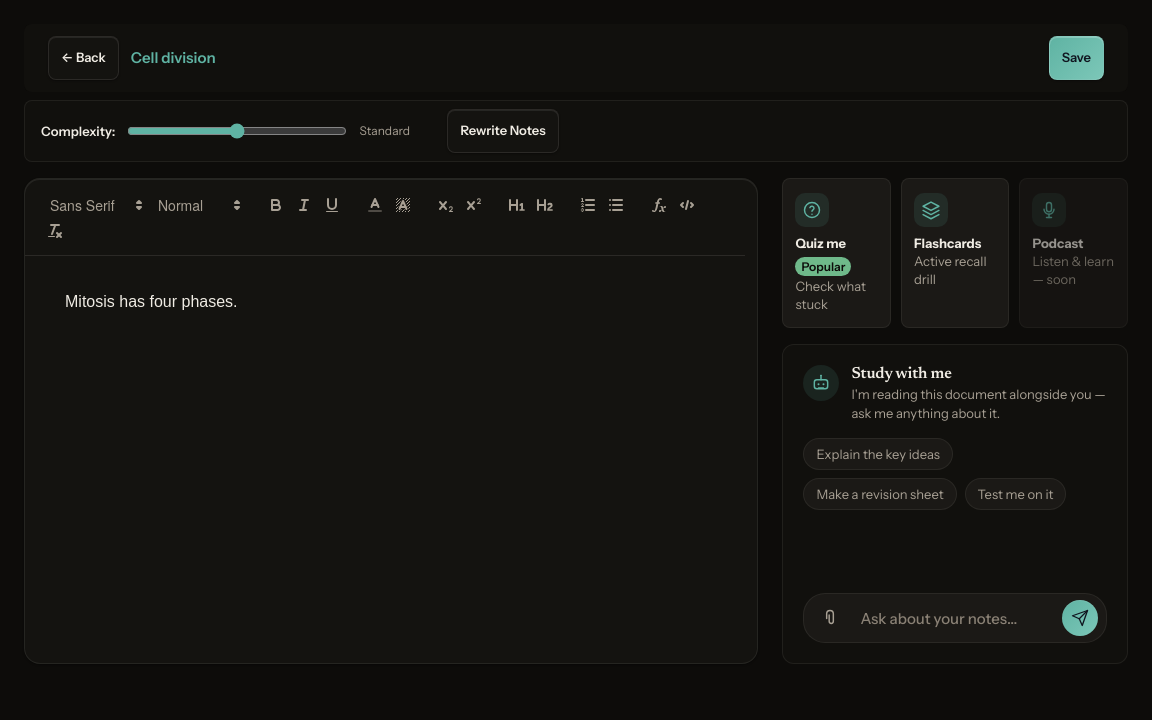
it: NotesAiSidebar › strips action tags instead of rendering them — this panel runs nothing
Type "Add a task" into the text box named "Ask about this document" at (955, 618), box [856, 601, 1054, 636]
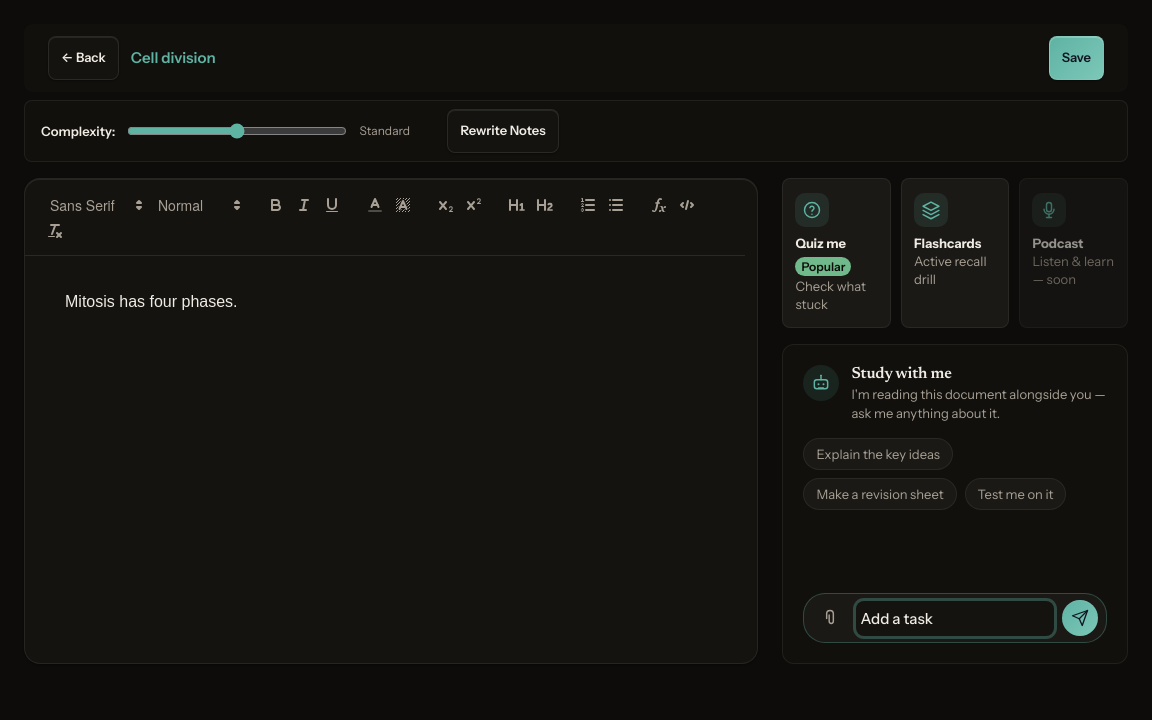
Click the button named "Send" at (1080, 618), box [1062, 600, 1098, 636]
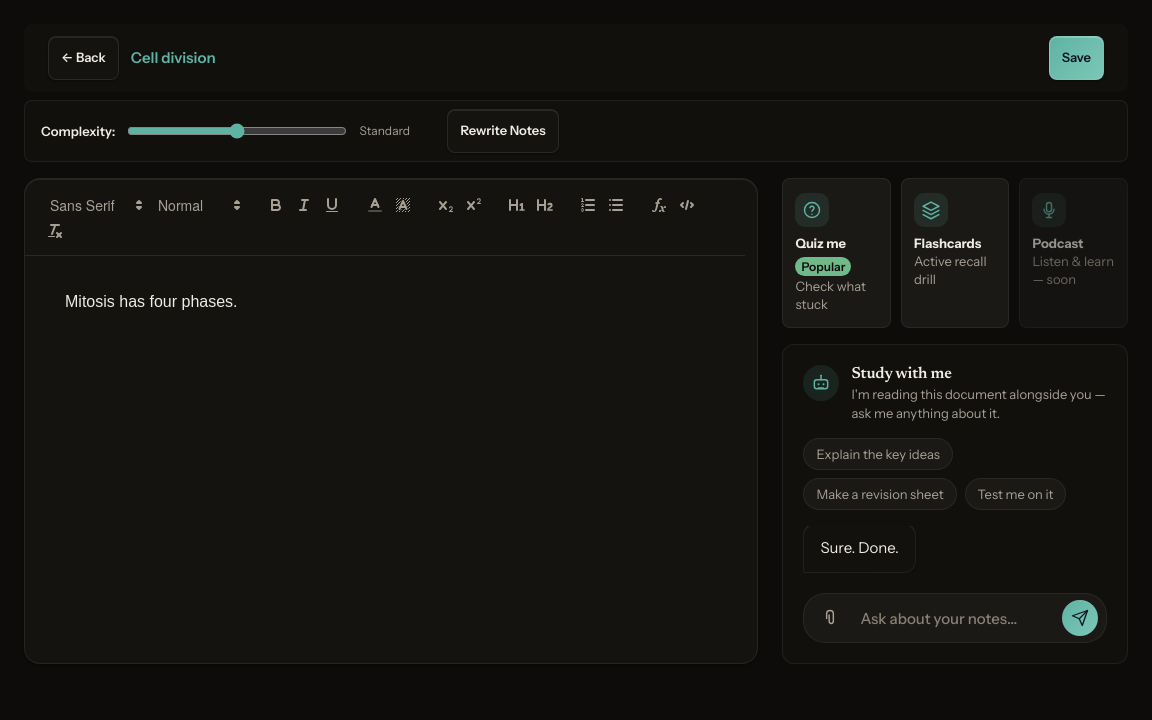
Expected: the text "Sure. Done." is shown, [820, 536, 899, 560]
